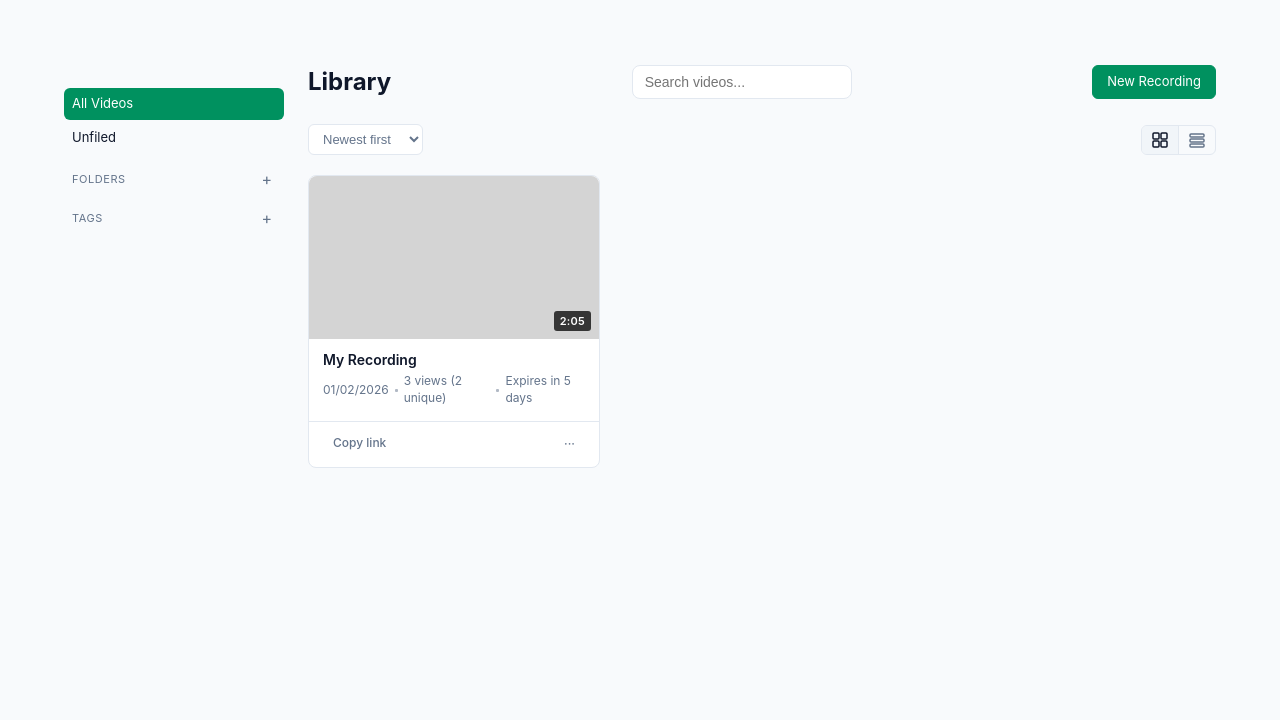
Test case: Library › shows confirm dialog before deleting
Step 1. Click the button named "More actions" → (570, 444), box [554, 431, 585, 457]
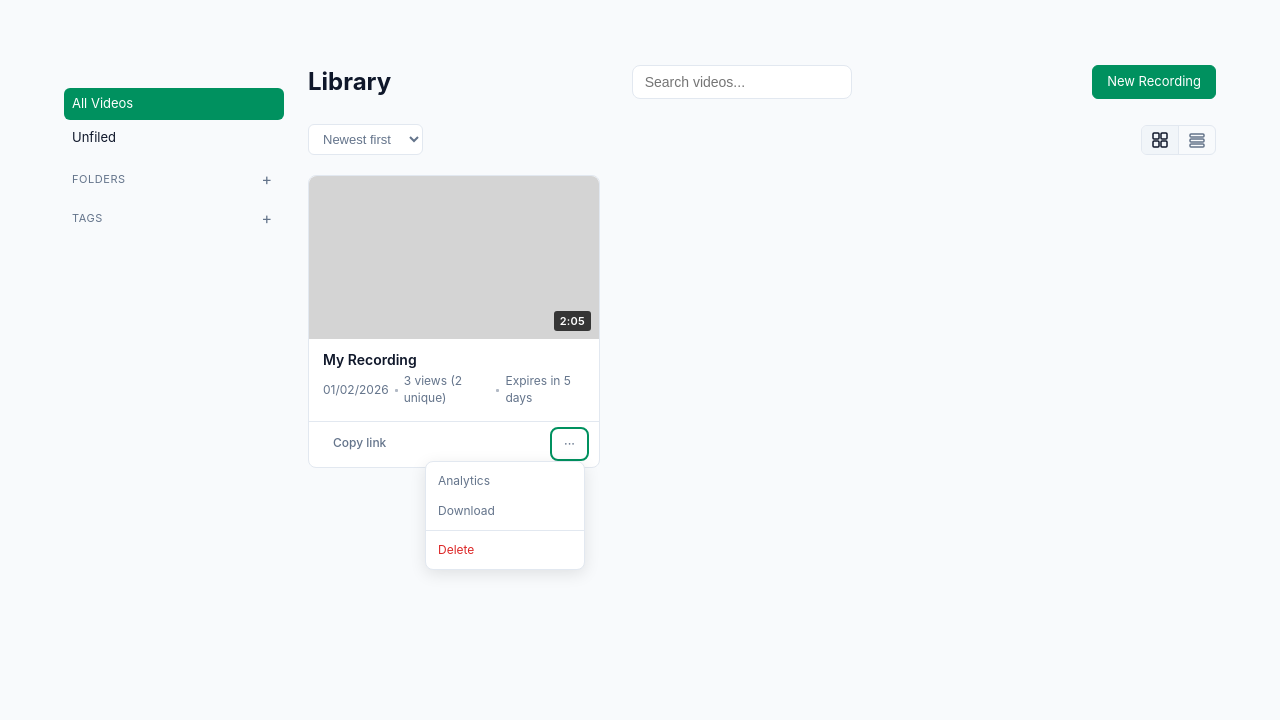
Step 2. Click the button "Delete" → (505, 550), box [426, 535, 584, 565]
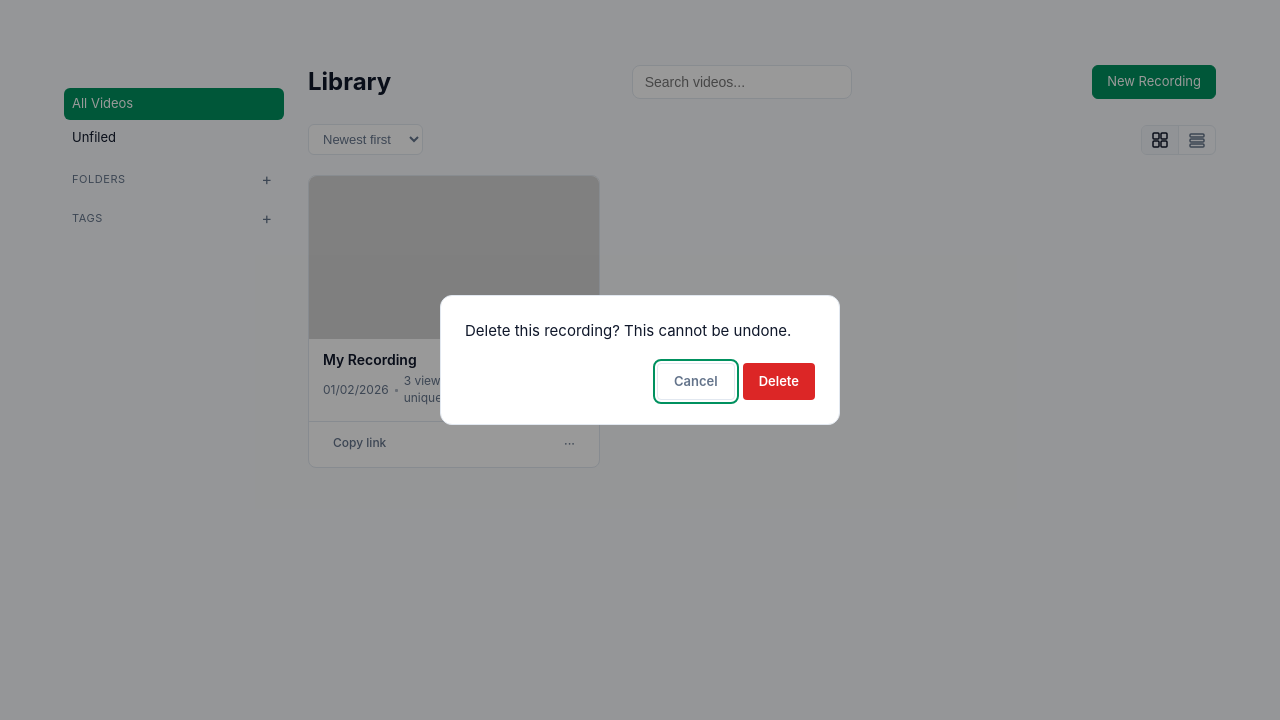
expect the dialog is shown: met, box [440, 295, 840, 425]
expect the text "Delete this recording? This cannot be undone." is shown: met, box [465, 320, 815, 342]
Step 3. Click the button "Cancel" → (696, 381), box [657, 362, 735, 400]
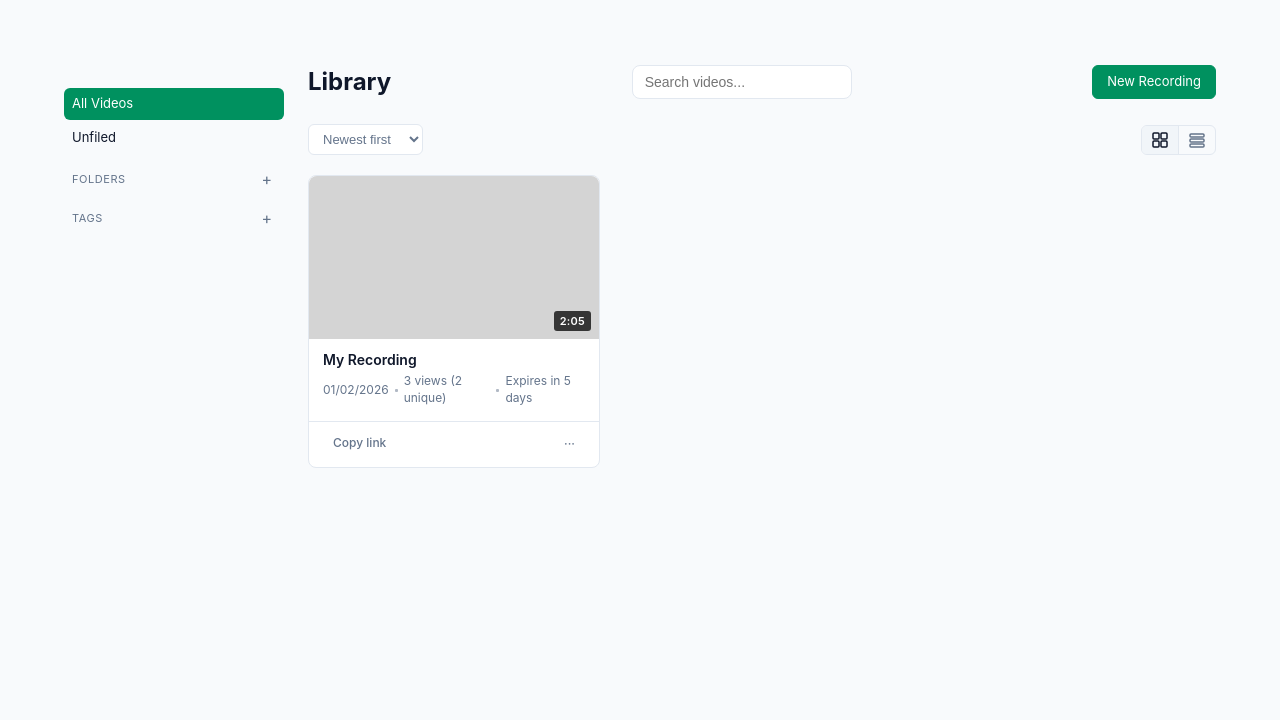
expect the dialog is gone: met
